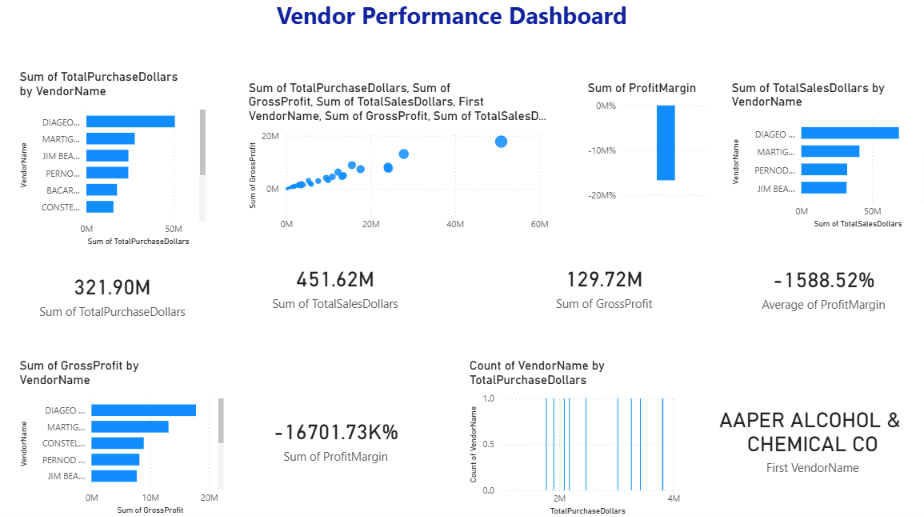

The dashboard page shown, as its layout file describes it:
{"tool":"powerbi","page":{"name":"Overview Dashboard","canvas":[1280,720],"ordinal":0},"visuals":[{"type":"textbox","box":[287.3,0,593,90.1],"z":0},{"type":"card","fields":{"Values":["Sum(vendor_sales_summary.TotalPurchaseDollars)"]},"box":[22.5,360.6,264.8,97.2],"z":1000},{"type":"card","fields":{"Values":["Sum(vendor_sales_summary.TotalSalesDollars)"]},"box":[336.6,339.4,247.9,118.3],"z":2000},{"type":"card","fields":{"Values":["Sum(vendor_sales_summary.GrossProfit)"]},"box":[678.9,339.4,300,118.3],"z":3000},{"type":"card","fields":{"Values":["Min(vendor_sales_summary.VendorName)"]},"box":[964.8,498.6,301.4,219.7],"z":4000},{"type":"clusteredBarChart","fields":{"Category":["vendor_sales_summary.VendorName"],"Y":["Sum(vendor_sales_summary.GrossProfit)"]},"box":[22.5,498.6,290.1,219.7],"z":5000},{"type":"card","fields":{"Values":["Sum(vendor_sales_summary.ProfitMargin)"]},"box":[338,498.6,246.5,221.1],"z":6000},{"type":"clusteredColumnChart","fields":{"Y":["CountNonNull(vendor_sales_summary.VendorName)"],"Category":["vendor_sales_summary.TotalPurchaseDollars"]},"box":[639.4,498.6,300,221.1],"z":7000},{"type":"clusteredBarChart","fields":{"Category":["vendor_sales_summary.VendorName"],"Y":["Sum(vendor_sales_summary.TotalPurchaseDollars)"]},"box":[22.5,101.4,264.8,247.9],"z":8000},{"type":"clusteredBarChart","fields":{"Category":["vendor_sales_summary.VendorName"],"Y":["Sum(vendor_sales_summary.TotalSalesDollars)"]},"box":[998.6,116.9,281.7,208.5],"z":9000},{"type":"card","fields":{"Values":["Avg(vendor_sales_summary.ProfitMargin)"]},"box":[1015.5,339.4,229.6,121.1],"z":10000},{"type":"clusteredColumnChart","fields":{"Y":["Sum(vendor_sales_summary.ProfitMargin)"]},"box":[801.4,116.9,177.5,171.8],"z":11000},{"type":"scatterChart","fields":{"X":["Sum(vendor_sales_summary.TotalPurchaseDollars)"],"Y":["Sum(vendor_sales_summary.GrossProfit)"],"Category":["vendor_sales_summary.VendorName"],"Size":["Sum(vendor_sales_summary.TotalSalesDollars)"]},"box":[336.6,116.9,421.1,215.5],"z":12000}]}

Visuals, with their boxes in screenshot pixels (x1, y1, x2, y2), scaled from the page's 1280x720 canvas onto the 924x517 screenshot:
textbox: [207,0,635,65]
card - Sum(vendor_sales_summary.TotalPurchaseDollars): [16,259,207,329]
card - Sum(vendor_sales_summary.TotalSalesDollars): [243,244,422,329]
card - Sum(vendor_sales_summary.GrossProfit): [490,244,707,329]
card - Min(vendor_sales_summary.VendorName): [696,358,914,516]
clusteredBarChart - vendor_sales_summary.VendorName x Sum(vendor_sales_summary.GrossProfit): [16,358,226,516]
card - Sum(vendor_sales_summary.ProfitMargin): [244,358,422,516]
clusteredColumnChart - CountNonNull(vendor_sales_summary.VendorName) x vendor_sales_summary.TotalPurchaseDollars: [462,358,678,516]
clusteredBarChart - vendor_sales_summary.VendorName x Sum(vendor_sales_summary.TotalPurchaseDollars): [16,73,207,251]
clusteredBarChart - vendor_sales_summary.VendorName x Sum(vendor_sales_summary.TotalSalesDollars): [721,84,923,234]
card - Avg(vendor_sales_summary.ProfitMargin): [733,244,899,331]
clusteredColumnChart - Sum(vendor_sales_summary.ProfitMargin): [579,84,707,207]
scatterChart - Sum(vendor_sales_summary.TotalPurchaseDollars) x Sum(vendor_sales_summary.GrossProfit): [243,84,547,239]
